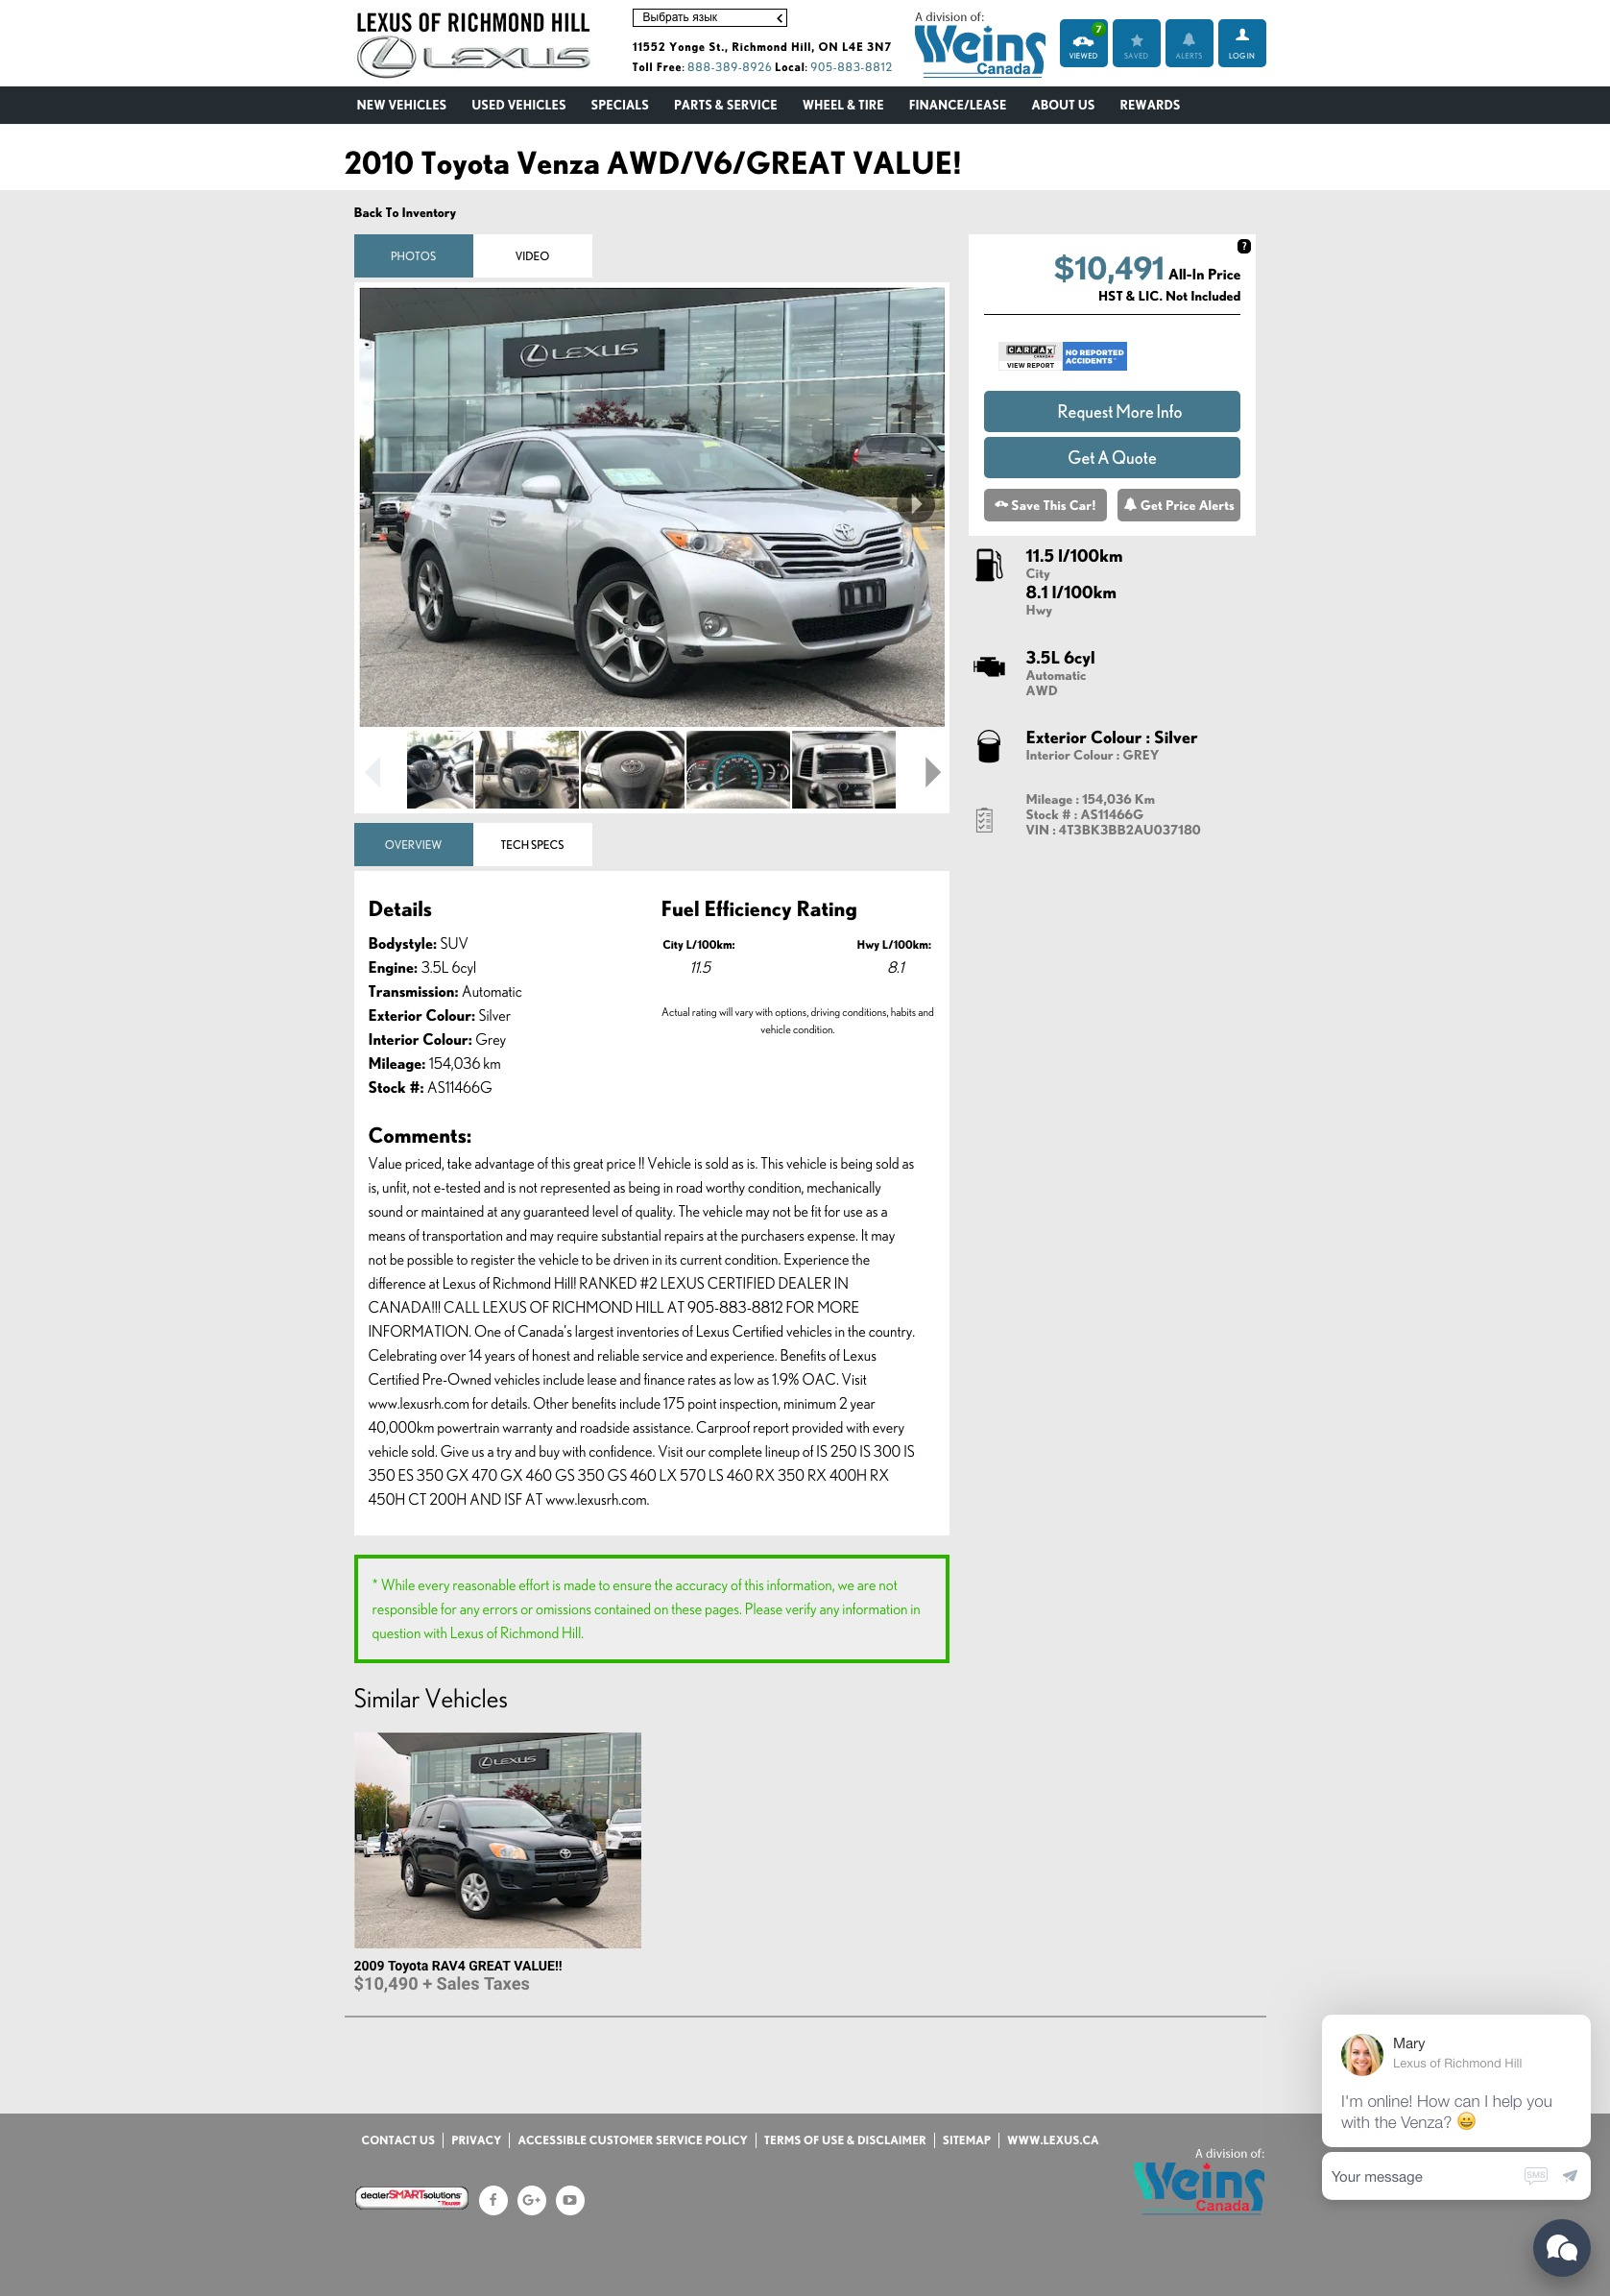car: (923, 757, 942, 789)
